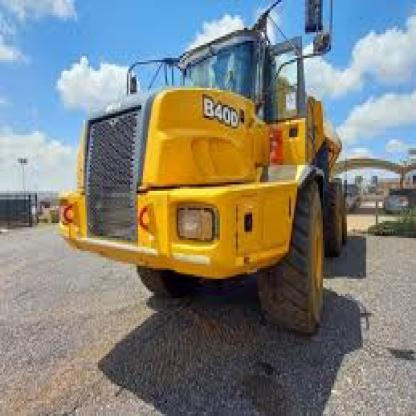dump_truck: (58, 11, 371, 332)
